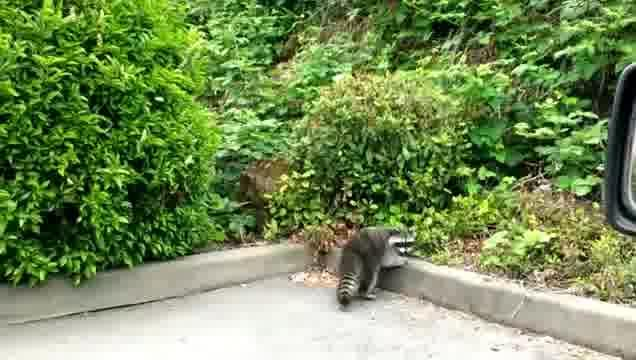raccoon: (329, 224, 413, 309)
